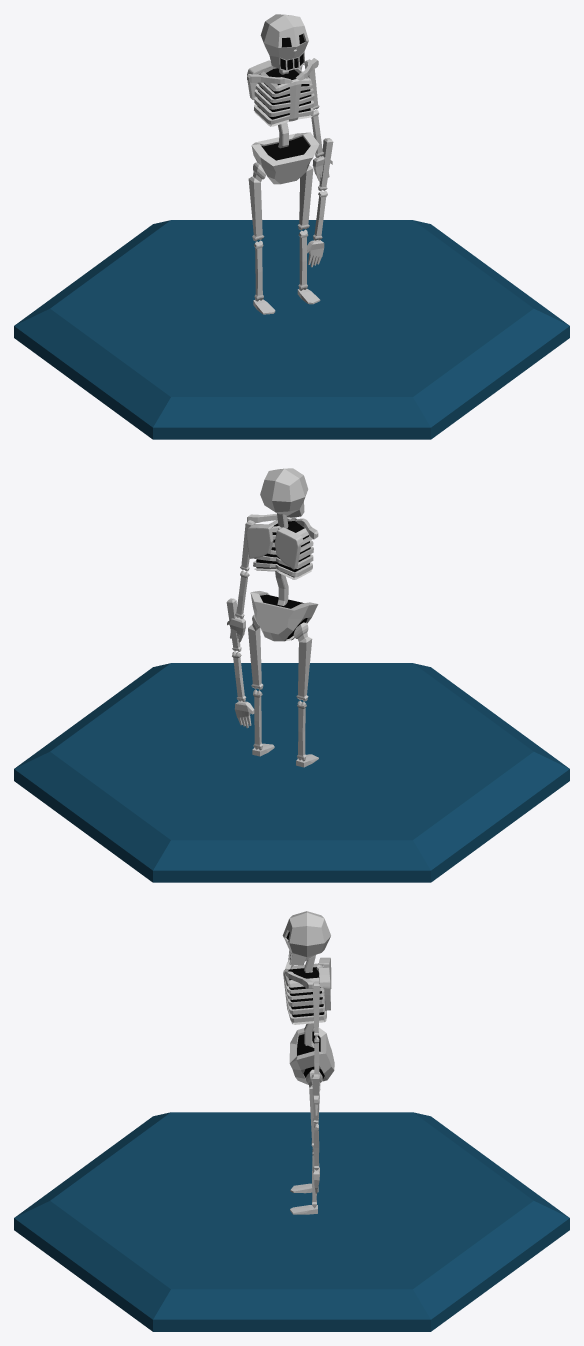
File: One_Hand_Figure_Scalone 1.fbx
3 renders of one model, top to bottom at view 1: azimuth 30°, elevation 25°; view 2: azimuth 150°, elevation 25°; view 3: azimuth 270°, elevation 25°, orthographic.
Parts seen in each view (by area): view 1: One_Hand; view 2: One_Hand; view 3: One_Hand.
Part boxes in pixels (bbox=[...]): One_Hand: bbox=[14, 14, 569, 439]; One_Hand: bbox=[14, 468, 569, 882]; One_Hand: bbox=[14, 911, 569, 1331].
Size of the model in its own units: 483 by 352 by 558.
